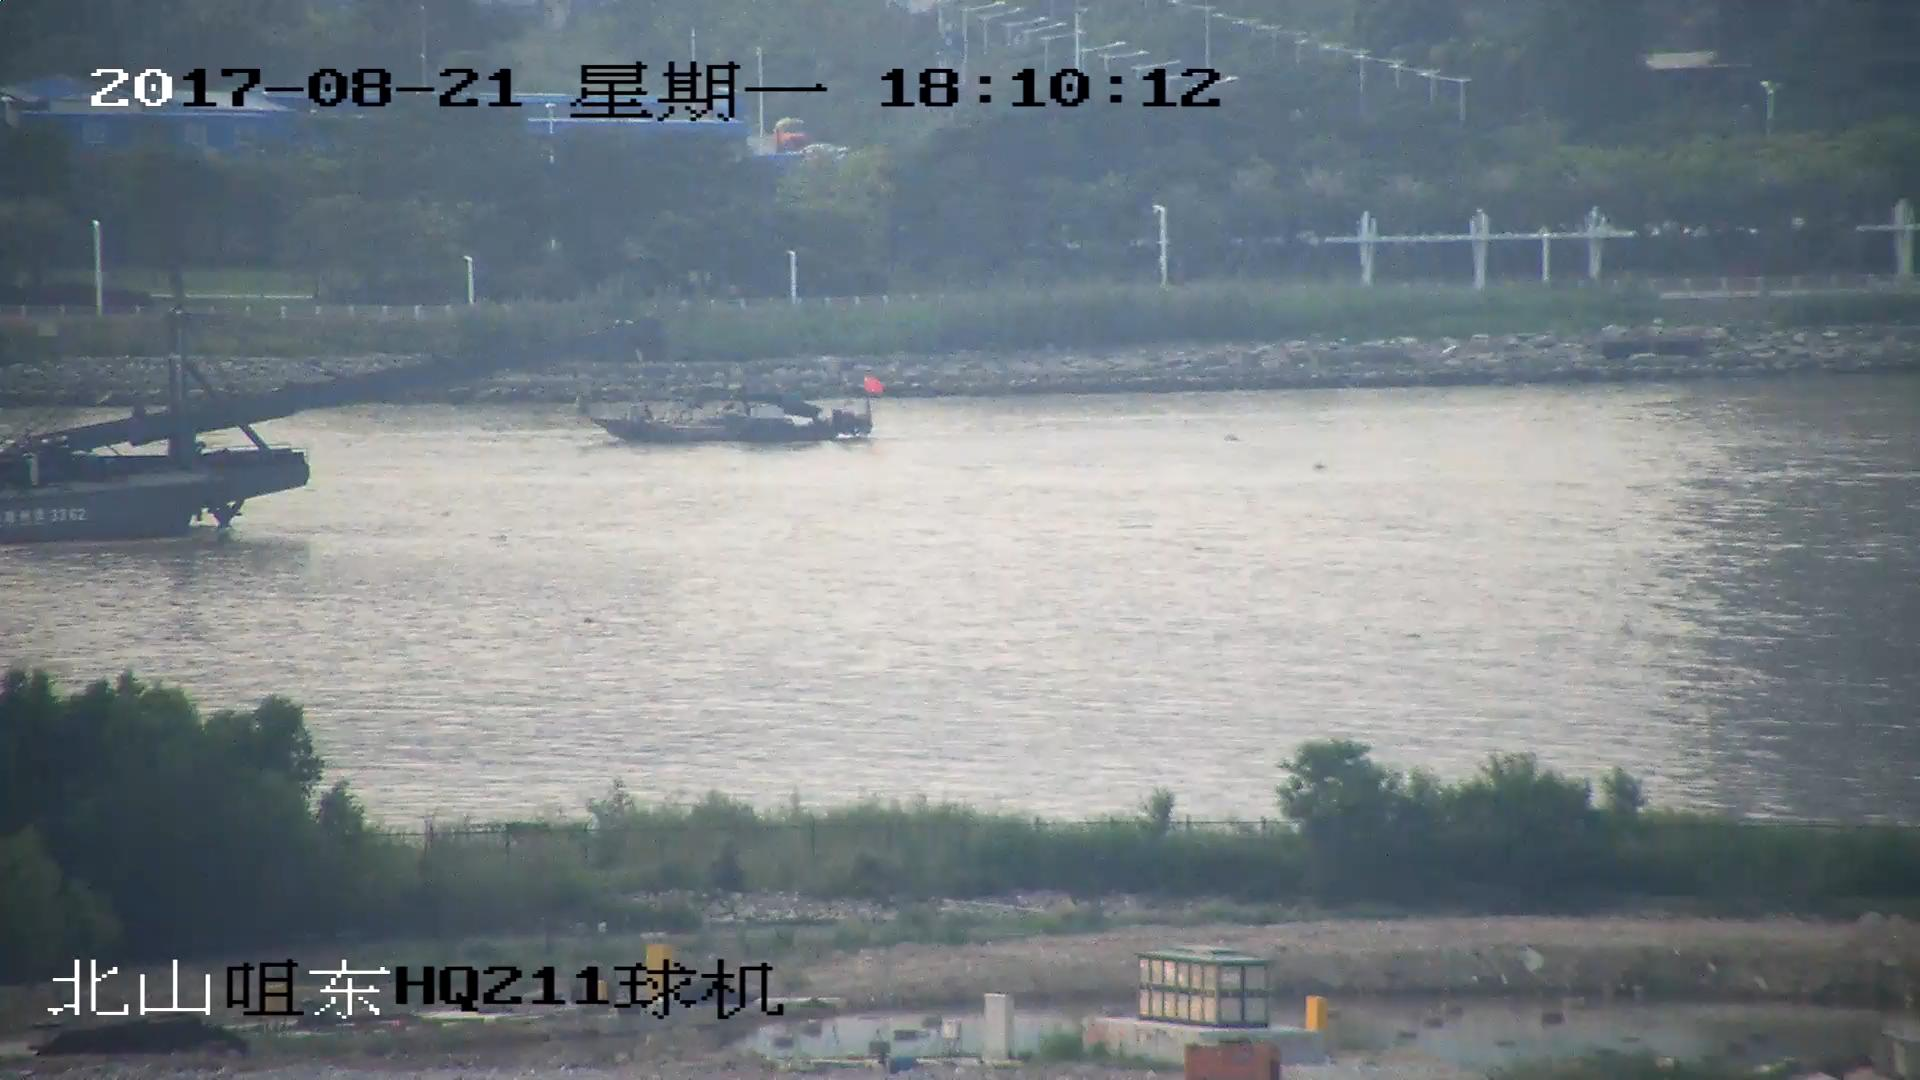fishing boat: (585, 373, 891, 446)
ore carrier: (1, 318, 646, 547)
